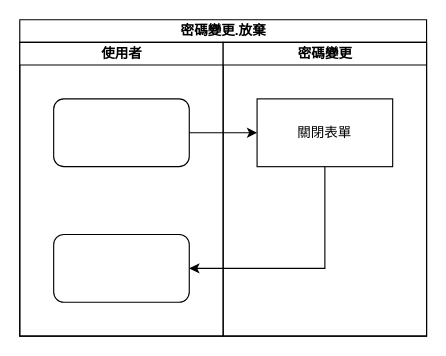
This 446x356 diagram has some shape labels left out. Each missing label, with the centre of its shape:
"執行結束" goes at point 121,267.
"點擊按鈕.放棄" goes at point 121,132.
